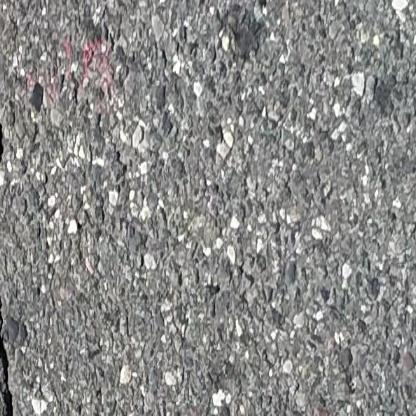Cracks: (0, 53, 20, 416)
